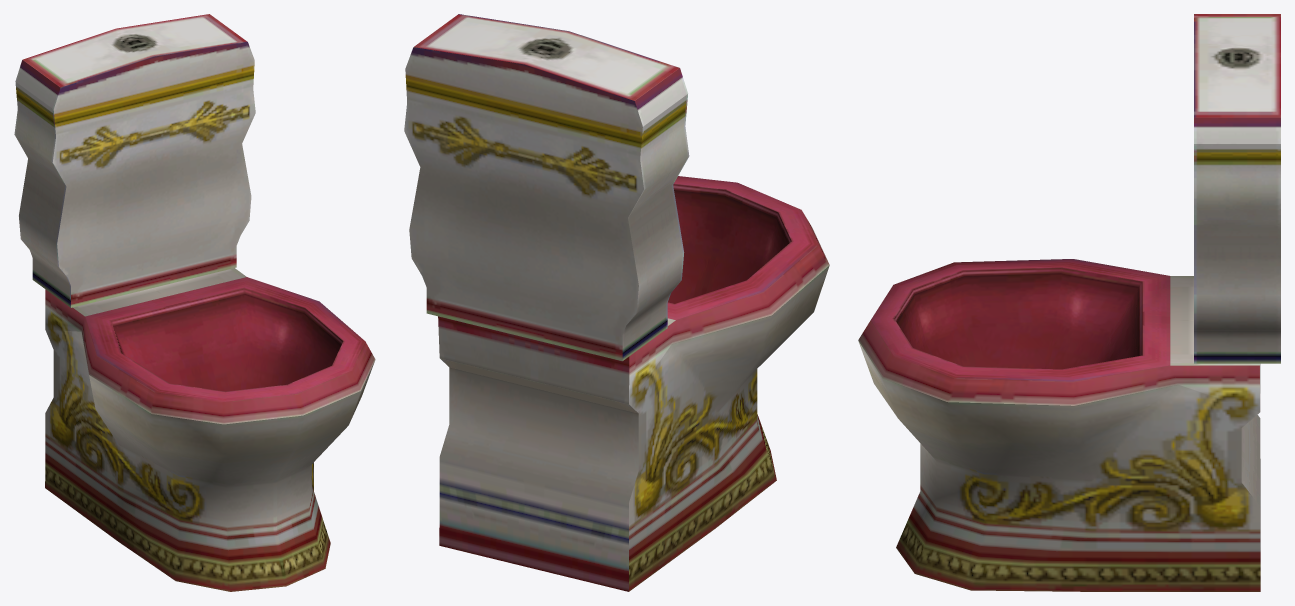
The model's file is furni_0201119_02.FBX.
The picture shows the model from 3 angles, left to right: view 1: azimuth 30°, elevation 25°; view 2: azimuth 150°, elevation 25°; view 3: azimuth 270°, elevation 25°; orthographic projection. The views are drawn at different scales.
Parts seen in each view (by area): view 1: furni_0201119_02; view 2: furni_0201119_02; view 3: furni_0201119_02.
Boxes of the visible parts, x1=… form: furni_0201119_02: x1=14, y1=14, x2=375, y2=591; furni_0201119_02: x1=404, y1=14, x2=829, y2=591; furni_0201119_02: x1=858, y1=14, x2=1280, y2=591.
Size of the model in its own units: 57.89 by 101 by 78.84.
1 material, 1 textured.
